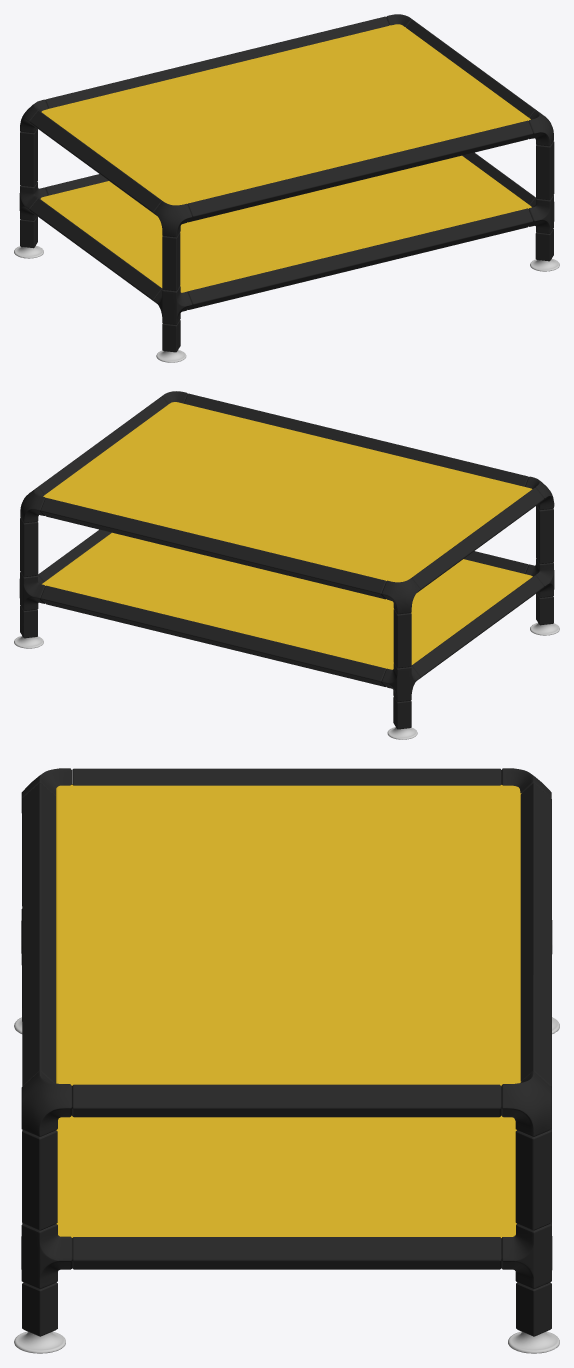
3 views of the same model, one above another, from view 1: azimuth 30°, elevation 25°; view 2: azimuth 150°, elevation 25°; view 3: azimuth 270°, elevation 25° (orthographic). The views are drawn at different scales.
Visible parts, largest first — view 1: 523x329x79; view 2: 523x329x79; view 3: 523x329x79.
Part boxes in pixels (x1,y1,x2,y2): 523x329x79: (14, 14, 559, 362); 523x329x79: (14, 391, 559, 739); 523x329x79: (14, 768, 559, 1353).
Size of the model in its own units: 0.6129 by 0.2183 by 0.4183.
